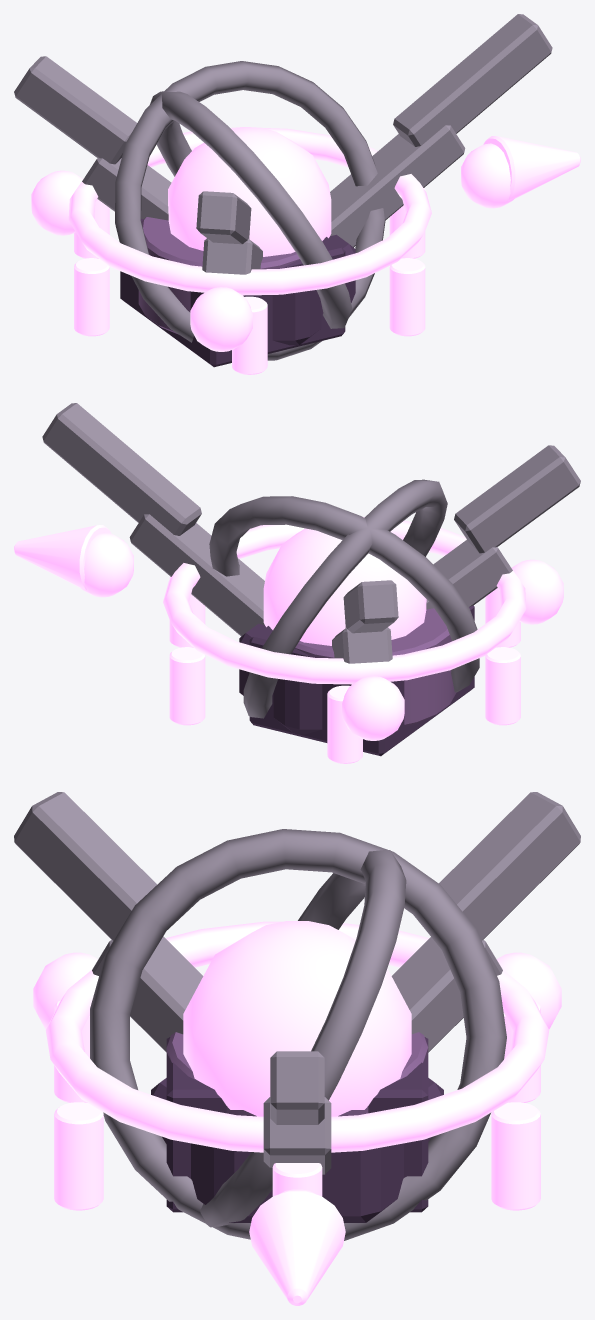
Rendered from void_turret_l3.glb.
3 views of the same model, one above another, from view 1: azimuth 30°, elevation 25°; view 2: azimuth 150°, elevation 25°; view 3: azimuth 270°, elevation 25° (orthographic). The views are drawn at different scales.
Parts seen in each view (by area): view 1: Torus, Torus.002, Sphere, Torus.001, Cube.002, Cube.004, Cube.001, Sphere.003, Cube, Cone, Cylinder, Cylinder.001 (+10 smaller); view 2: Torus.002, Torus, Torus.001, Cube.002, Sphere, Cube.006, Cube.001, Cylinder, Sphere.002, Cone, Cube.005, Cylinder.001 (+10 smaller); view 3: Torus.001, Sphere, Torus.002, Torus, Cube.006, Cube.004, Cylinder.001, Cone, Cube, Cylinder.003, Cylinder.007, Cube.003 (+9 smaller).
Boxes of the visible parts, x1,y1,x2,y2 form: Torus: [115, 61, 385, 360]; Torus.002: [68, 127, 431, 295]; Sphere: [168, 127, 331, 256]; Torus.001: [150, 91, 352, 328]; Cube.002: [393, 14, 552, 146]; Cube.004: [14, 56, 136, 164]; Cube.001: [330, 125, 465, 247]; Sphere.003: [190, 287, 252, 351]; Cube: [120, 219, 345, 367]; Cone: [483, 136, 580, 200]; Cylinder: [138, 217, 299, 334]; Cylinder.001: [272, 234, 355, 345]; Torus.002: [163, 517, 526, 684]; Torus: [209, 496, 479, 692]; Torus.001: [243, 479, 447, 718]; Cube.002: [42, 403, 201, 535]; Sphere: [263, 528, 426, 645]; Cube.006: [454, 445, 580, 553]; Cube.001: [129, 514, 264, 636]; Cylinder: [295, 608, 456, 725]; Sphere.002: [342, 676, 404, 740]; Cone: [14, 525, 111, 589]; Cube.005: [426, 540, 512, 609]; Cylinder.001: [239, 623, 322, 734]; Torus.001: [90, 829, 506, 1240]; Sphere: [183, 921, 411, 1116]; Torus.002: [45, 921, 549, 1152]; Torus: [200, 850, 406, 1227]; Cube.006: [14, 792, 157, 940]; Cube.004: [439, 792, 580, 940]; Cylinder.001: [151, 1078, 443, 1222]; Cone: [249, 1191, 345, 1305]; Cube: [166, 1037, 428, 1212]; Cylinder.003: [491, 1102, 540, 1210]; Cylinder.007: [54, 1102, 103, 1210]; Cube.003: [391, 937, 502, 1052].
Bounding box in the file's own units: 1.78 × 0.8322 × 1.26.
